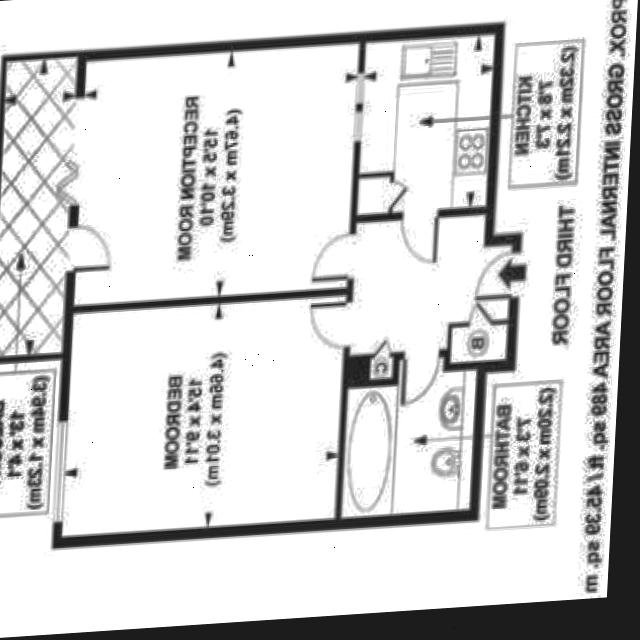room: (58, 43, 373, 304), (48, 295, 361, 535), (358, 28, 495, 221), (0, 53, 77, 358), (345, 214, 516, 351), (341, 352, 476, 521), (449, 324, 509, 361)
